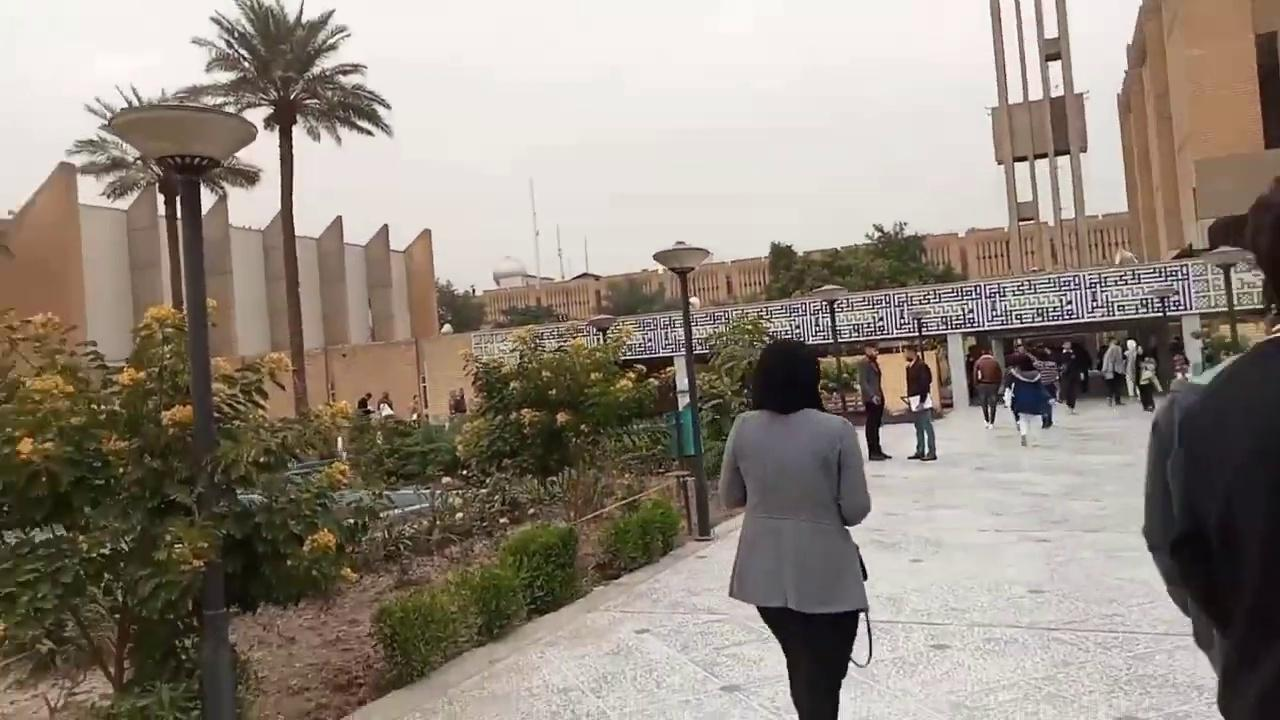person: (1142, 175, 1279, 718), (718, 338, 872, 719), (901, 343, 937, 460), (1010, 362, 1054, 454), (858, 341, 892, 460), (1110, 337, 1148, 408), (976, 352, 1002, 417), (377, 391, 394, 416), (407, 393, 421, 422), (357, 392, 374, 413), (453, 388, 466, 414)
tree: (0, 297, 353, 718), (172, 0, 394, 420), (64, 82, 262, 427), (452, 316, 664, 485), (763, 219, 963, 299), (692, 309, 774, 478), (861, 219, 930, 288), (764, 239, 797, 300)
